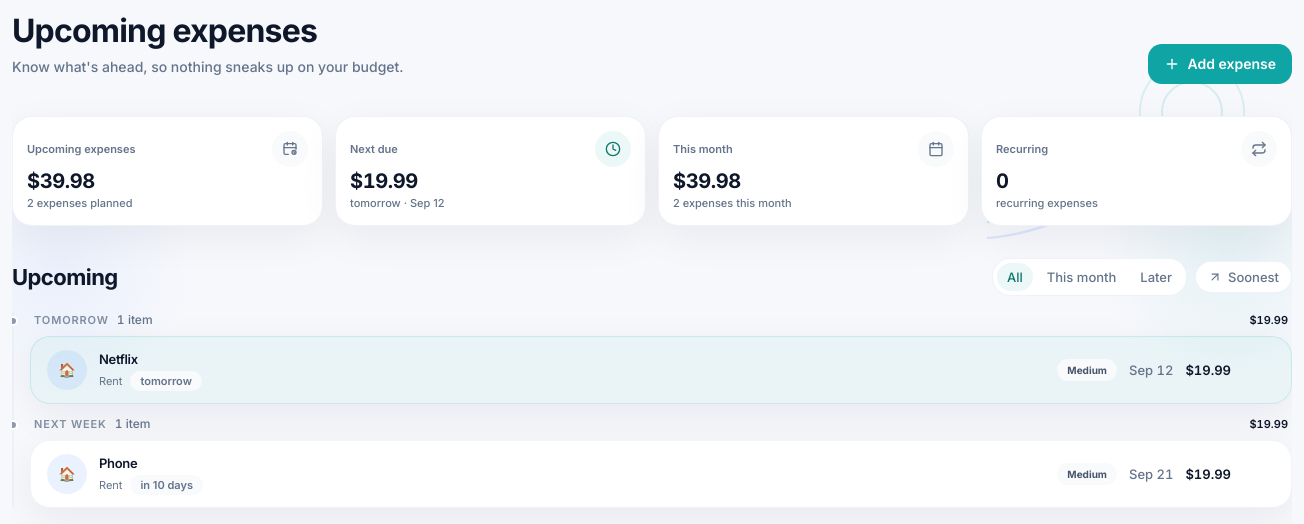
UpcomingView › toggles the sort between Soonest and Latest
Check: the button "🏠 Netflix Rent tomorrow Medium Sep 12 $19.99" is shown, box [47, 349, 1231, 391]
Step 1. Click the button "Soonest" → [1244, 277], box [1195, 261, 1292, 293]
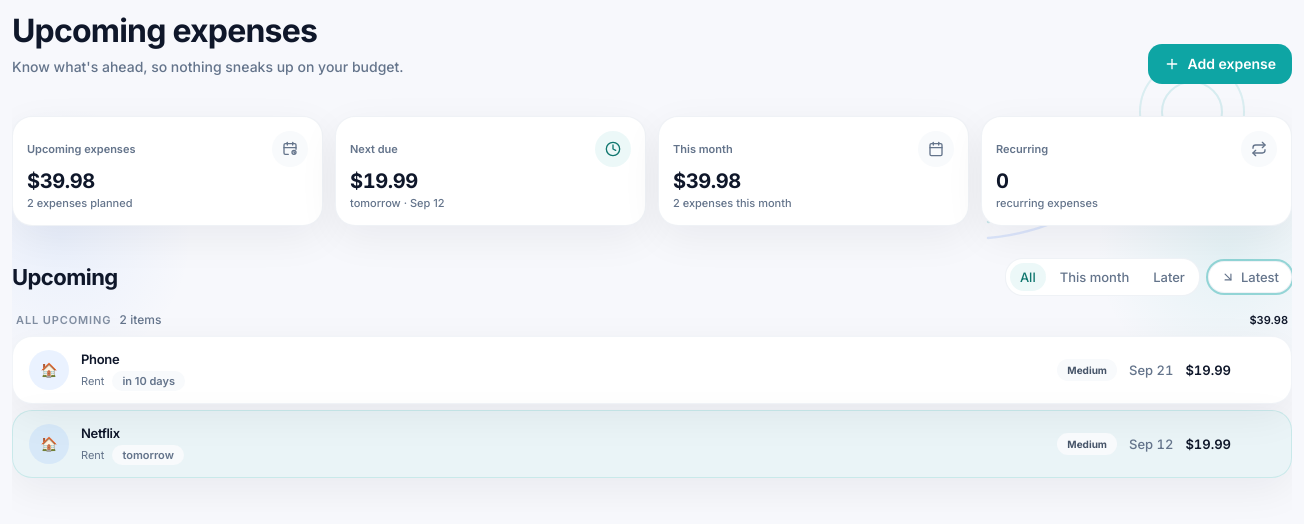
Check: the button "🏠 Phone Rent in 10 days Medium Sep 21 $19.99" is shown, box [29, 349, 1231, 391]
Step 2. Click the button "Latest" → [1250, 277], box [1208, 261, 1292, 293]
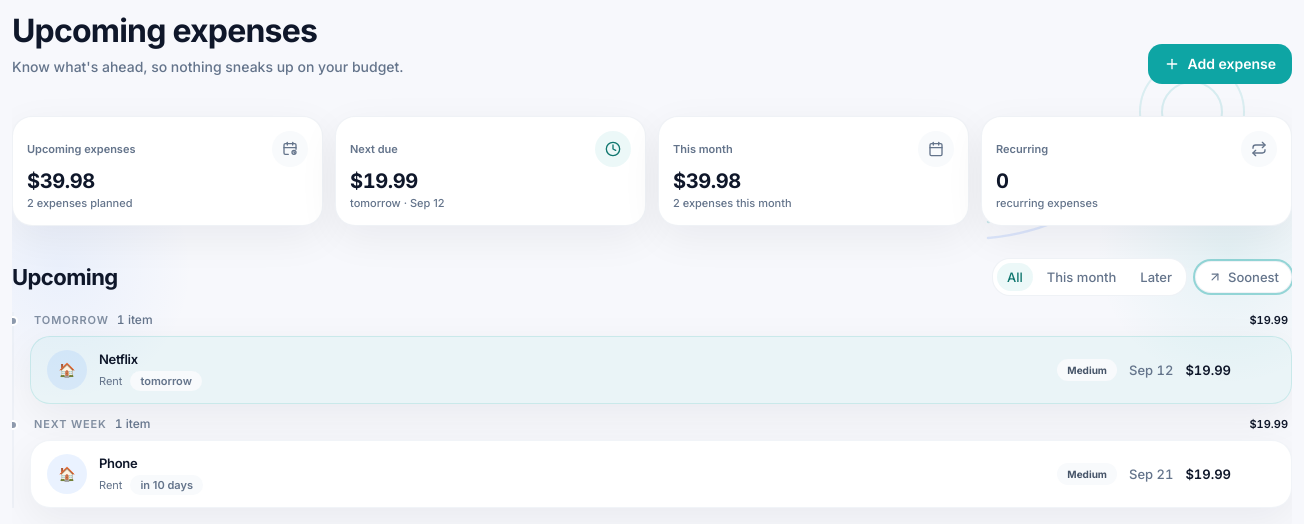
Check: the button "🏠 Netflix Rent tomorrow Medium Sep 12 $19.99" is shown, box [47, 349, 1231, 391]
